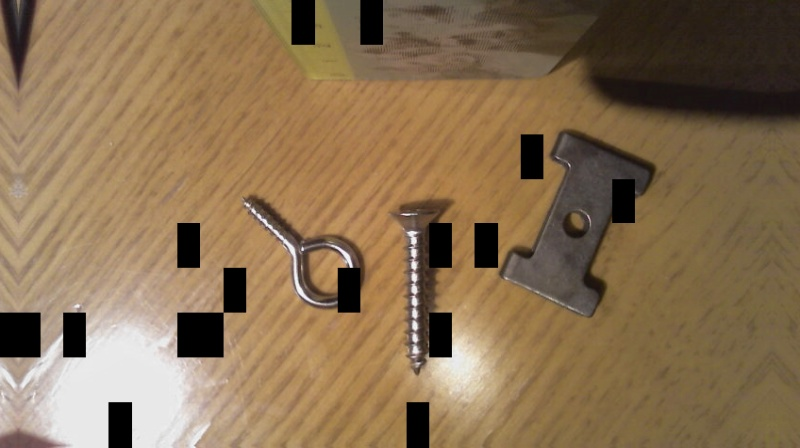O001: (240, 190, 367, 313)
O002: (497, 129, 657, 321)
S001: (385, 202, 443, 377)
